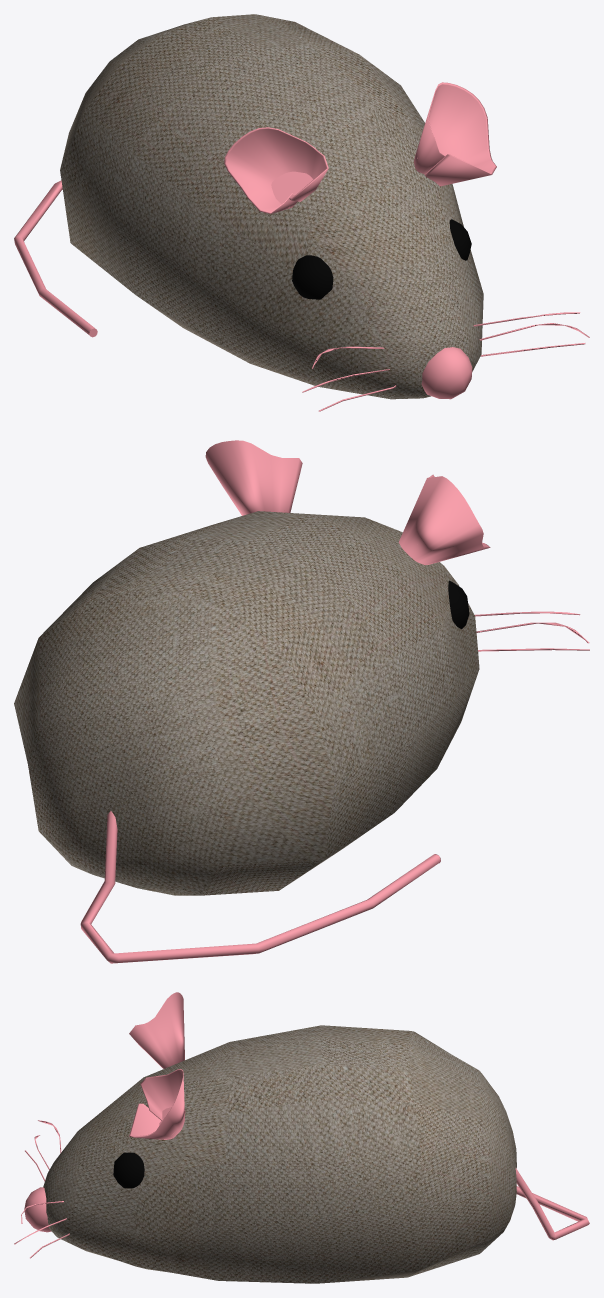
Rendered from Toy_mouse.fbx.
3 views of the same model, one above another, from view 1: azimuth 30°, elevation 25°; view 2: azimuth 150°, elevation 25°; view 3: azimuth 270°, elevation 25° (orthographic). The views are drawn at different scales.
Parts seen in each view (by area): view 1: mose; view 2: mose; view 3: mose.
Part boxes in pixels (box(x1,y1,x2,y2)): mose: box(14, 14, 589, 411); mose: box(14, 440, 589, 963); mose: box(14, 992, 589, 1283).
Size of the model in its own units: 477 by 380 by 876.
